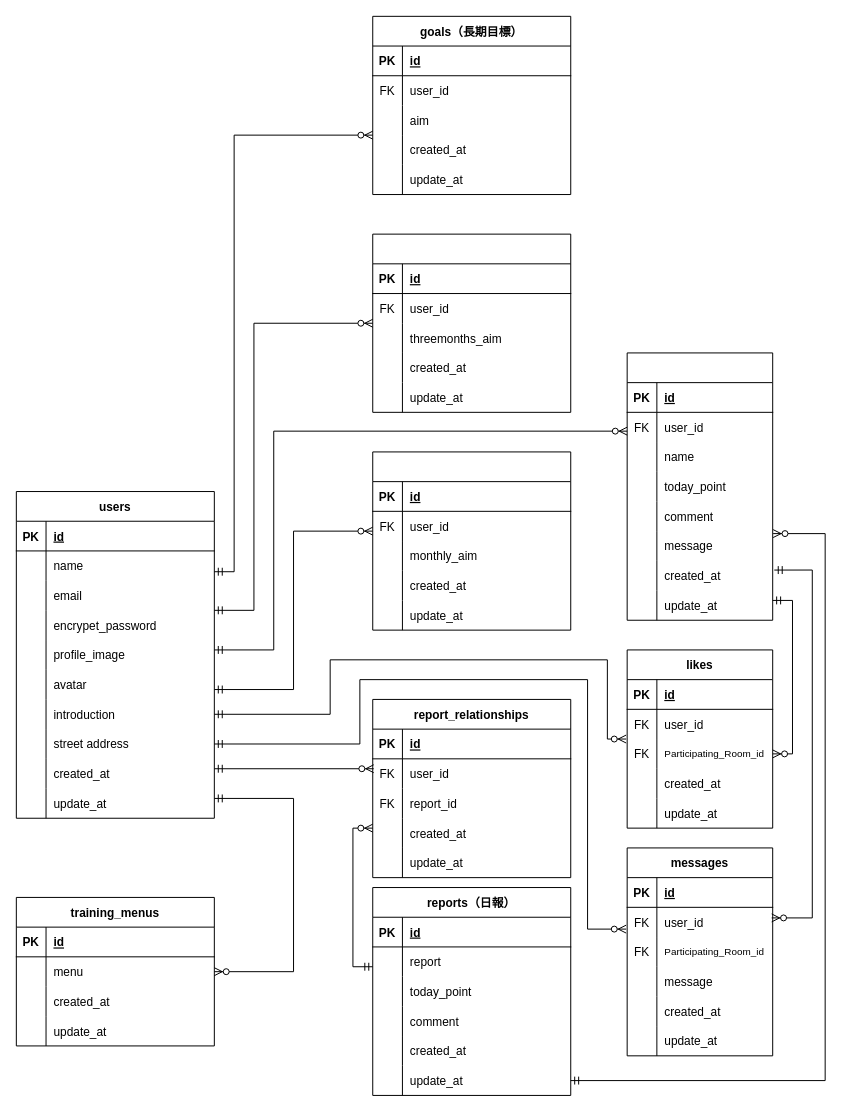
This 842x1112 diagram has some shape labels left out. The shapes that lost their labels are listed below. From the top down, each one's box as (x1, y1, x2, y2) in pixels, then its label:
(372, 233, 571, 412): threemonths_goals（３ヶ月）
(626, 352, 773, 620): Participating_Rooms （参加ルーム）
(372, 451, 571, 630): monthly_goals（月目標）
